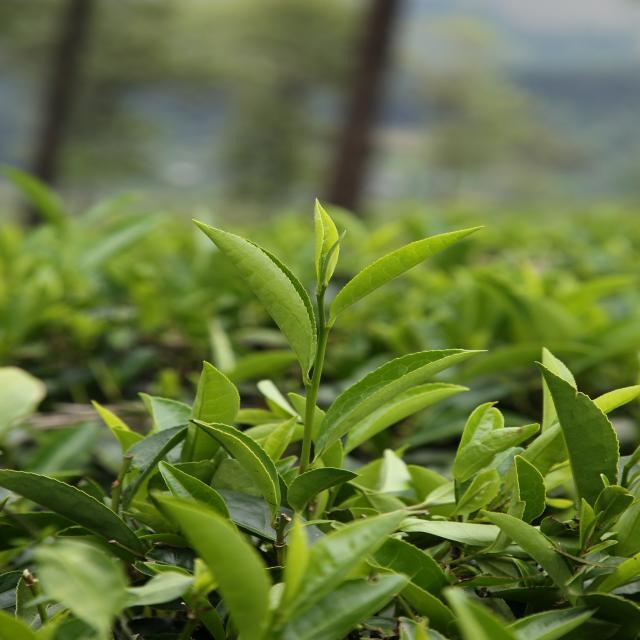Stem: (319, 327, 331, 340)
